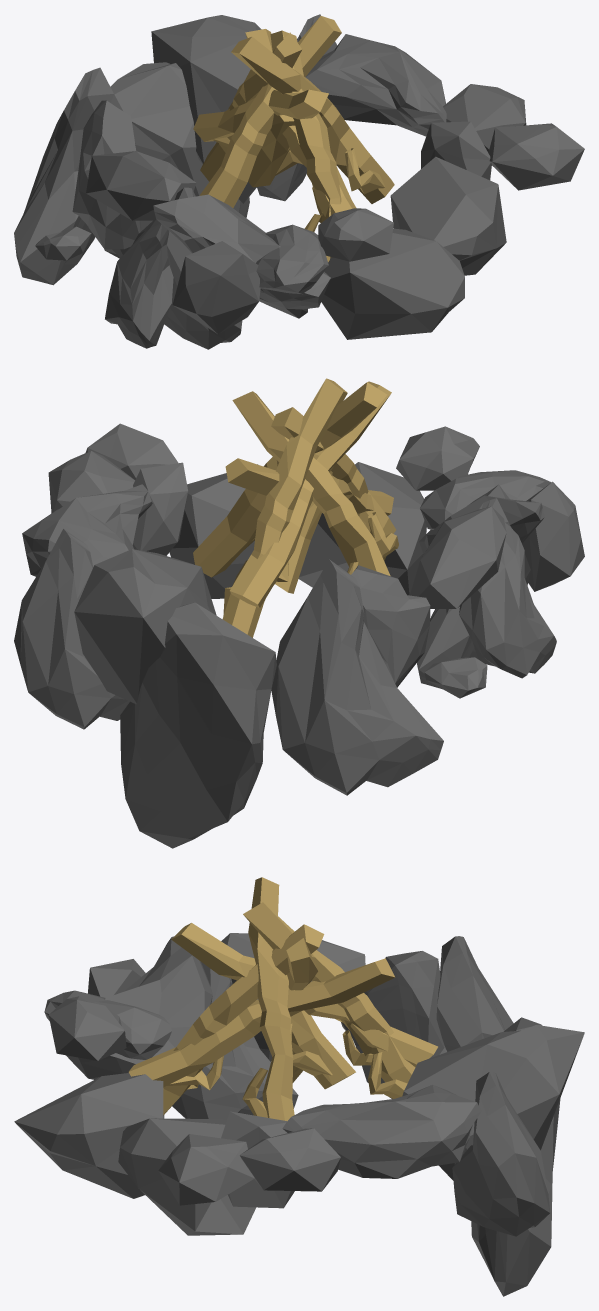
The model's file is campfire.glb.
3 views of the same model, one above another, from view 1: azimuth 30°, elevation 25°; view 2: azimuth 150°, elevation 25°; view 3: azimuth 270°, elevation 25° (orthographic). The views are drawn at different scales.
Parts seen in each view (by area): view 1: Icosphere.005_0.002, Icosphere.007, Icosphere.005_0.001, Icosphere.017, Icosphere.018_0.001, Icosphere.005, Icosphere.020, Icosphere.025, Icosphere.019, NurbsPath.012, Icosphere.015, NurbsPath.009 (+14 smaller); view 2: Icosphere.018_0.001, Icosphere.017, Icosphere.005, Icosphere.026, Icosphere.025, Icosphere.015, NurbsPath.013, Icosphere.007, Icosphere.005_0.002, Icosphere.014, NurbsPath.009, NurbsPath.012 (+14 smaller); view 3: Icosphere.007, Icosphere.005, Icosphere.026, Icosphere.005_0.002, Icosphere.005_0.001, NurbsPath.010, NurbsPath.012, Icosphere.020, Icosphere.017, NurbsPath.013, Icosphere.014, Icosphere.018_0.001 (+12 smaller).
Part boxes in pixels (box(x1,y1,x2,y2)): Icosphere.005_0.002: box(321, 228, 464, 339); Icosphere.007: box(305, 34, 446, 136); Icosphere.005_0.001: box(390, 156, 506, 275); Icosphere.017: box(14, 67, 135, 285); Icosphere.018_0.001: box(104, 62, 249, 258); Icosphere.005: box(151, 15, 261, 203); Icosphere.020: box(153, 194, 330, 318); Icosphere.025: box(105, 218, 173, 348); Icosphere.019: box(172, 241, 260, 334); NurbsPath.012: box(231, 36, 394, 203); Icosphere.015: box(86, 151, 196, 220); NurbsPath.009: box(199, 16, 341, 207); Icosphere.018_0.001: box(120, 602, 276, 848); Icosphere.017: box(271, 559, 443, 795); Icosphere.005: box(74, 549, 216, 704); Icosphere.026: box(14, 528, 129, 729); Icosphere.025: box(459, 522, 556, 678); Icosphere.015: box(410, 506, 506, 608); NurbsPath.013: box(222, 378, 347, 637); Icosphere.007: box(22, 484, 152, 576); Icosphere.005_0.002: box(298, 462, 426, 595); Icosphere.014: box(351, 565, 430, 687); NurbsPath.009: box(232, 391, 390, 575); NurbsPath.012: box(193, 382, 387, 577); Icosphere.007: box(282, 1084, 481, 1178); Icosphere.005: box(402, 1025, 584, 1180); Icosphere.026: box(452, 1071, 550, 1236); Icosphere.005_0.002: box(14, 1073, 164, 1198); Icosphere.005_0.001: box(118, 1118, 256, 1235); NurbsPath.010: box(128, 958, 395, 1090); NurbsPath.012: box(242, 877, 294, 1121); Icosphere.020: box(66, 936, 212, 1079); Icosphere.017: box(436, 936, 513, 1051); NurbsPath.013: box(243, 902, 415, 1098); Icosphere.014: box(348, 951, 446, 1098); Icosphere.018_0.001: box(471, 1017, 560, 1296).
Size of the model in its own units: 4.27 by 3.34 by 4.49.
